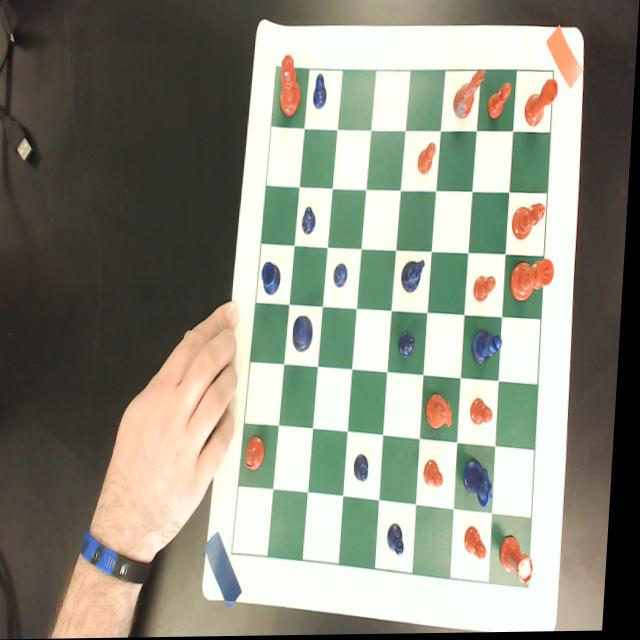B: (475, 331, 507, 366)
K: (296, 315, 318, 355)
N: (468, 459, 501, 511), (404, 259, 429, 294)
P: (392, 522, 412, 558), (401, 331, 420, 360), (314, 74, 329, 110), (359, 455, 376, 483), (304, 207, 319, 235), (336, 264, 352, 290)
R: (264, 263, 285, 297)
b: (514, 204, 548, 241), (250, 437, 272, 473)
k: (513, 260, 559, 305)
n: (455, 69, 487, 121), (430, 393, 461, 433)
p: (488, 82, 514, 122), (470, 525, 495, 563), (474, 399, 500, 430), (418, 143, 439, 178), (475, 275, 500, 304), (428, 461, 451, 489)
q: (279, 54, 304, 118)
r: (505, 534, 543, 588), (524, 78, 561, 131)
